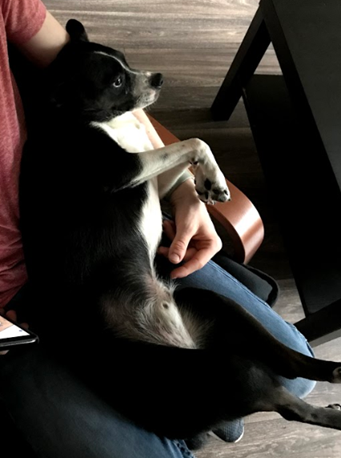Harley: (21, 15, 339, 432)
